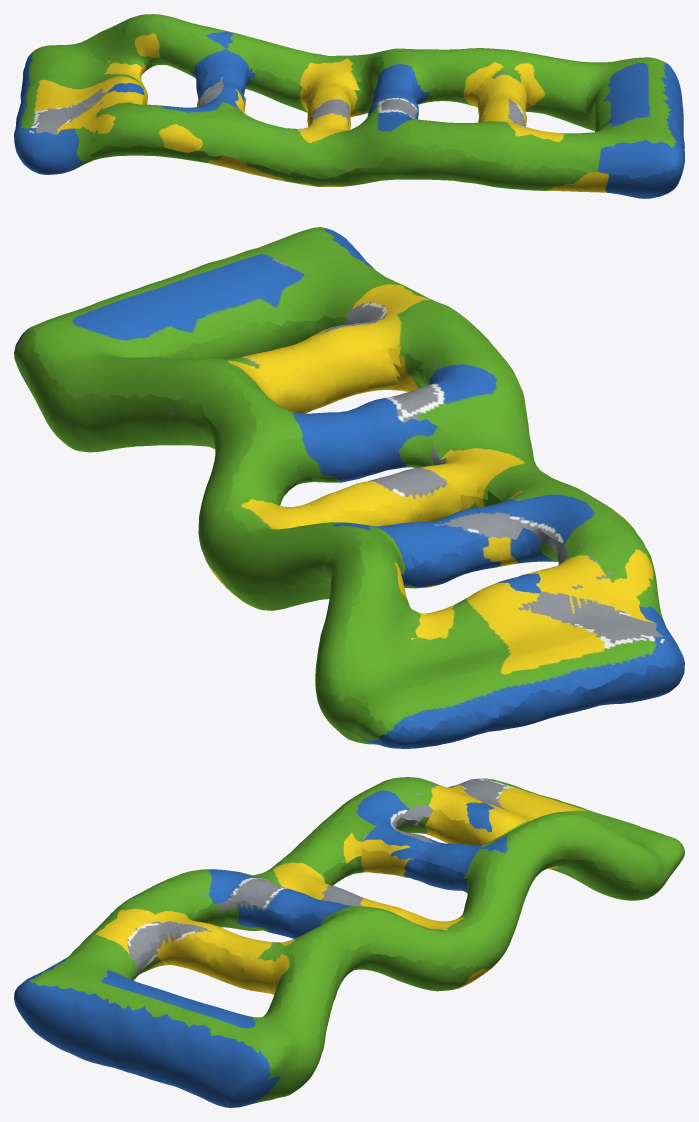
File: powerhurdle.glb
3 renders of one model, top to bottom at view 1: azimuth 30°, elevation 25°; view 2: azimuth 150°, elevation 25°; view 3: azimuth 270°, elevation 25°, orthographic. The views are drawn at different scales.
Parts seen in each view (by area): view 1: geometry_0; view 2: geometry_0; view 3: geometry_0.
Boxes of the visible parts, <box> form: geometry_0: <box>14,14,684,198</box>; geometry_0: <box>14,227,684,748</box>; geometry_0: <box>14,777,684,1107</box>.
Size of the model in its own units: 0.8571 by 0.1419 by 0.8224.
Materials: 1 (1 with a texture image).
